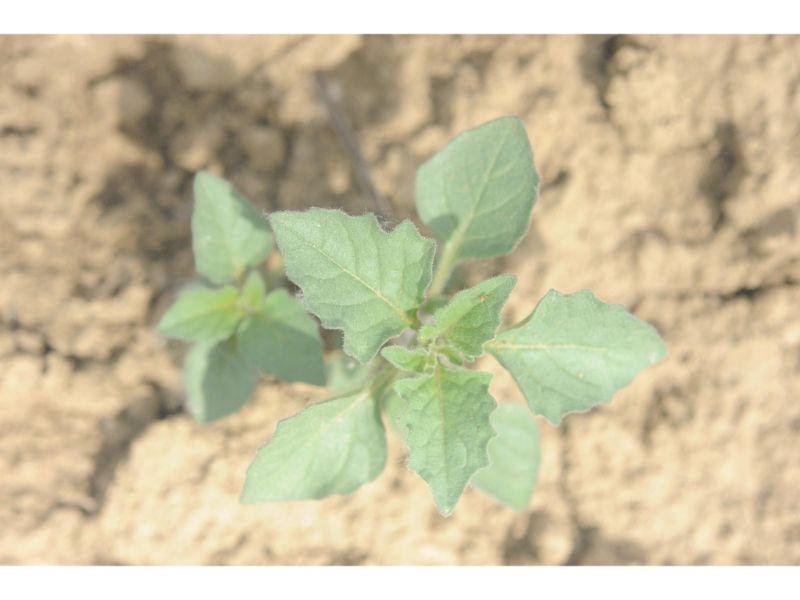nightshade: (158, 110, 666, 519)
